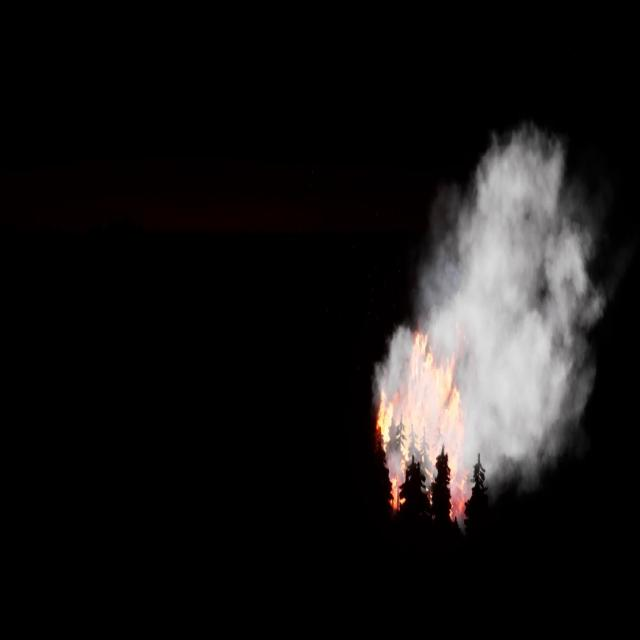fire: (377, 337, 472, 522)
smoke: (369, 119, 609, 505)
